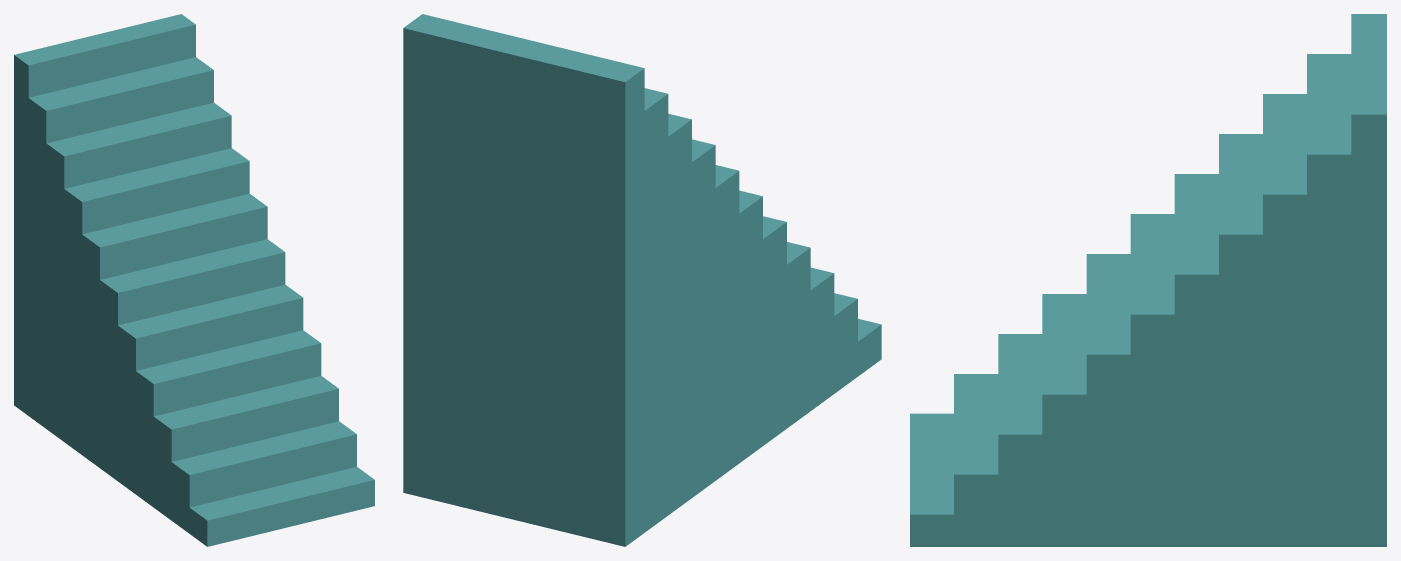
The model's file is stairway_05.fbx.
The picture shows the model from 3 angles, left to right: view 1: azimuth 30°, elevation 25°; view 2: azimuth 150°, elevation 25°; view 3: azimuth 270°, elevation 25°; orthographic projection. The views are drawn at different scales.
Parts seen in each view (by area): view 1: stairway_05; view 2: stairway_05; view 3: stairway_05.
Boxes of the visible parts, <box> form: stairway_05: <box>14,14,374,546</box>; stairway_05: <box>403,14,881,546</box>; stairway_05: <box>910,14,1386,546</box>.
Bounding box in the file's own units: 2 × 4 × 4.
